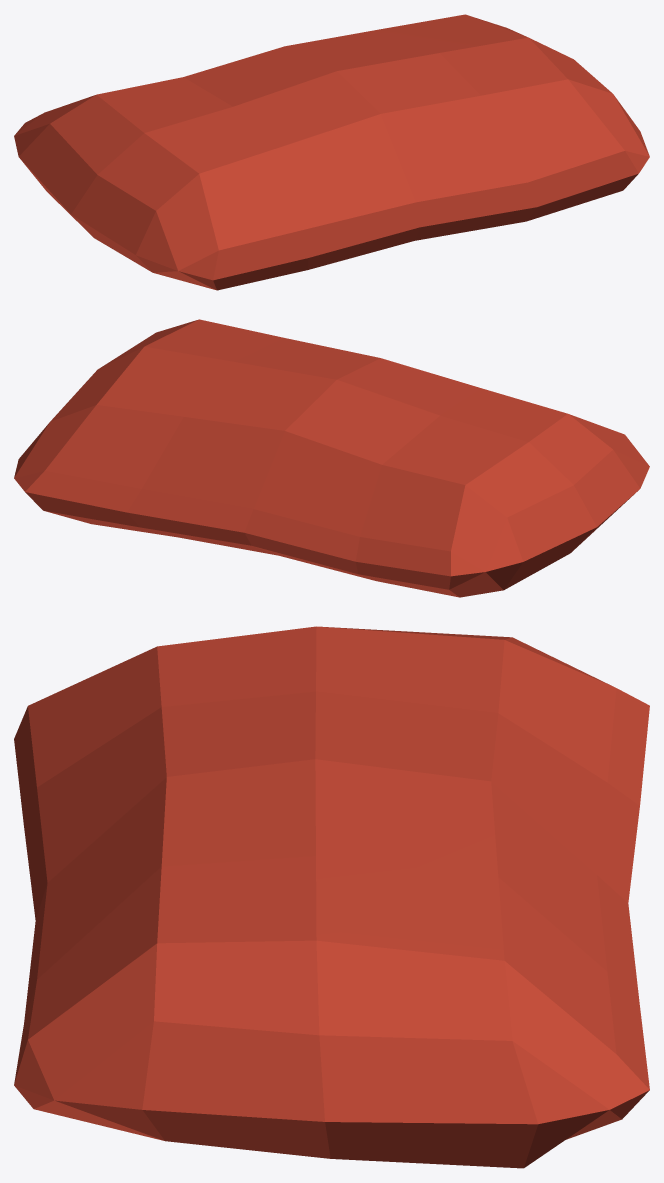
Rendered from SM_Prop_Pillow_01.fbx.
3 views of the same model, one above another, from view 1: azimuth 30°, elevation 25°; view 2: azimuth 150°, elevation 25°; view 3: azimuth 270°, elevation 25° (orthographic). The views are drawn at different scales.
Parts seen in each view (by area): view 1: SM_Prop_Pillow_01; view 2: SM_Prop_Pillow_01; view 3: SM_Prop_Pillow_01.
Boxes of the visible parts, box(x1,y1,x2,y2) form: SM_Prop_Pillow_01: box(14, 14, 649, 290); SM_Prop_Pillow_01: box(14, 319, 649, 597); SM_Prop_Pillow_01: box(14, 626, 649, 1168).
Size of the model in its own units: 79.29 by 20.8 by 49.12.
